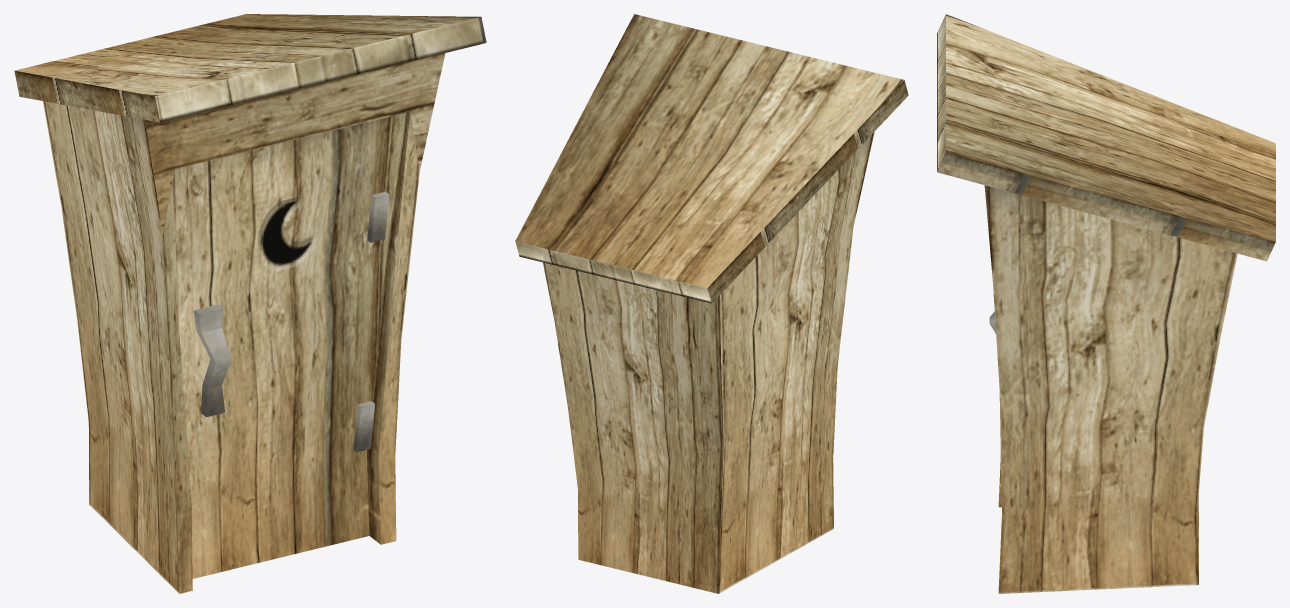
The picture shows the model from 3 angles, left to right: view 1: azimuth 30°, elevation 25°; view 2: azimuth 150°, elevation 25°; view 3: azimuth 270°, elevation 25°; orthographic projection. The views are drawn at different scales.
Visible parts, largest first — view 1: outhouse; view 2: outhouse; view 3: outhouse.
Part boxes in pixels (x1=…): outhouse: x1=14, y1=14, x2=486, y2=593; outhouse: x1=515, y1=14, x2=908, y2=593; outhouse: x1=937, y1=14, x2=1275, y2=593.
Size of the model in its own units: 157 by 245 by 162.
1 material, 1 textured.
